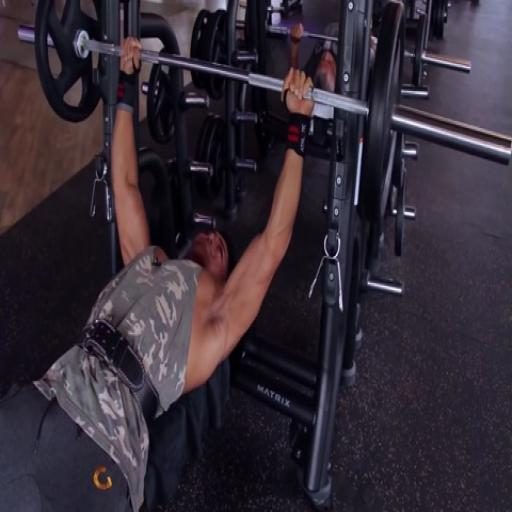exercise: (0, 30, 336, 510)
